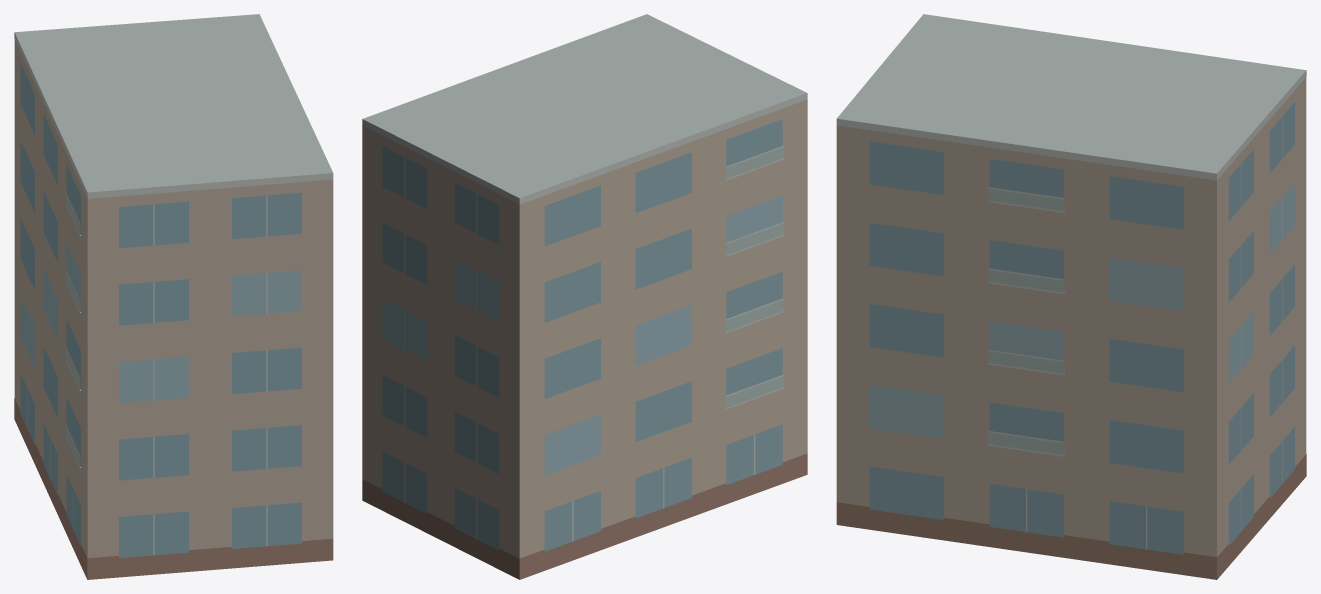
The model's file is survey-upis-32890043.glb.
3 renders of one model, left to right at view 1: azimuth 30°, elevation 25°; view 2: azimuth 150°, elevation 25°; view 3: azimuth 270°, elevation 25°, orthographic. The views are drawn at different scales.
Visible parts, largest first — view 1: survey-upis-32890043.tmp; view 2: survey-upis-32890043.tmp; view 3: survey-upis-32890043.tmp.
Boxes of the visible parts, x1=… form: survey-upis-32890043.tmp: x1=14, y1=14, x2=333, y2=579; survey-upis-32890043.tmp: x1=362, y1=14, x2=807, y2=579; survey-upis-32890043.tmp: x1=836, y1=14, x2=1306, y2=579.
Bounding box in the file's own units: 12.32 × 14.6 × 15.31.
